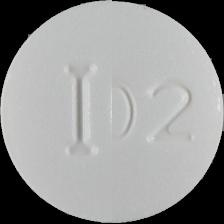50090-1112: (0, 0, 224, 224)
